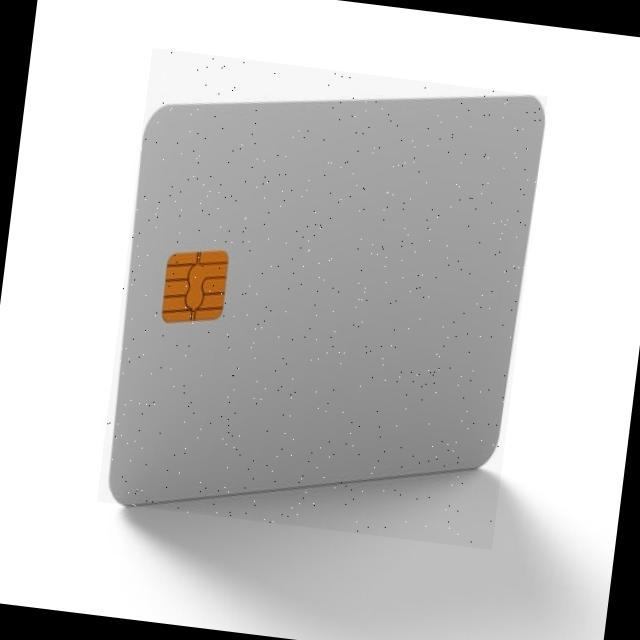payment_card: (106, 50, 546, 507)
